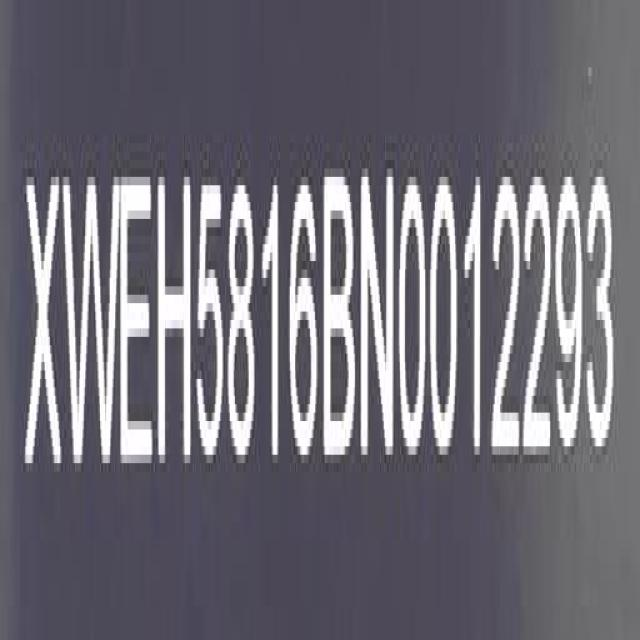0: (428, 175, 462, 455), (398, 178, 427, 465)
1: (464, 174, 486, 464), (262, 178, 283, 474)
2: (522, 165, 553, 471), (492, 165, 521, 474)
3: (586, 172, 617, 449)
5: (196, 168, 226, 484)
6: (289, 178, 322, 471)
8: (227, 175, 258, 474)
9: (555, 175, 584, 462)
B: (321, 162, 359, 465)
E: (118, 165, 154, 474)
H: (158, 172, 192, 462)
N: (359, 165, 397, 474)
W: (63, 175, 121, 490)
X: (25, 175, 62, 474)
